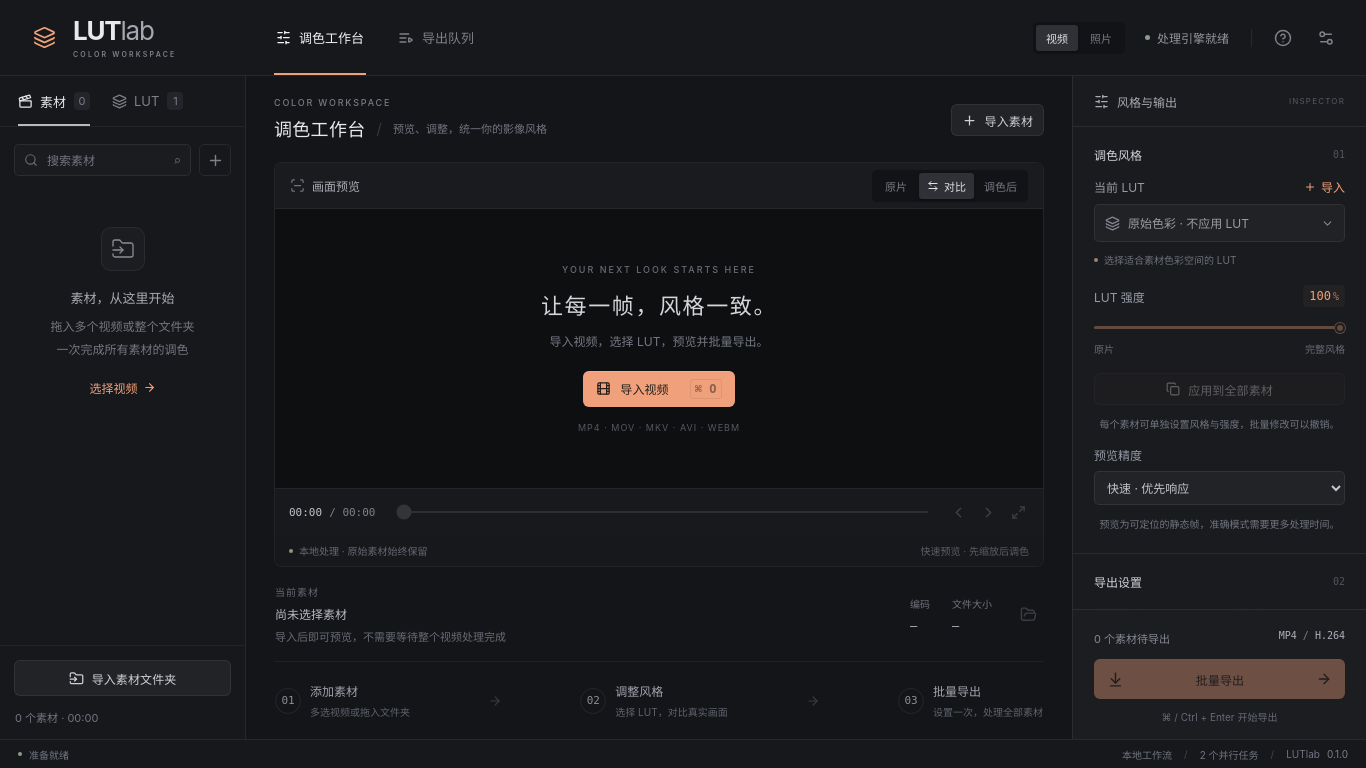
Test: workspace integration › opens a keyboard accessible settings dialog and displays engine information
The image size is (1366, 768).
Check: the button "处理引擎就绪" is shown, box [1139,28,1235,47]
Click the button named "应用设置": (1326, 38) [1311,23,1340,52]
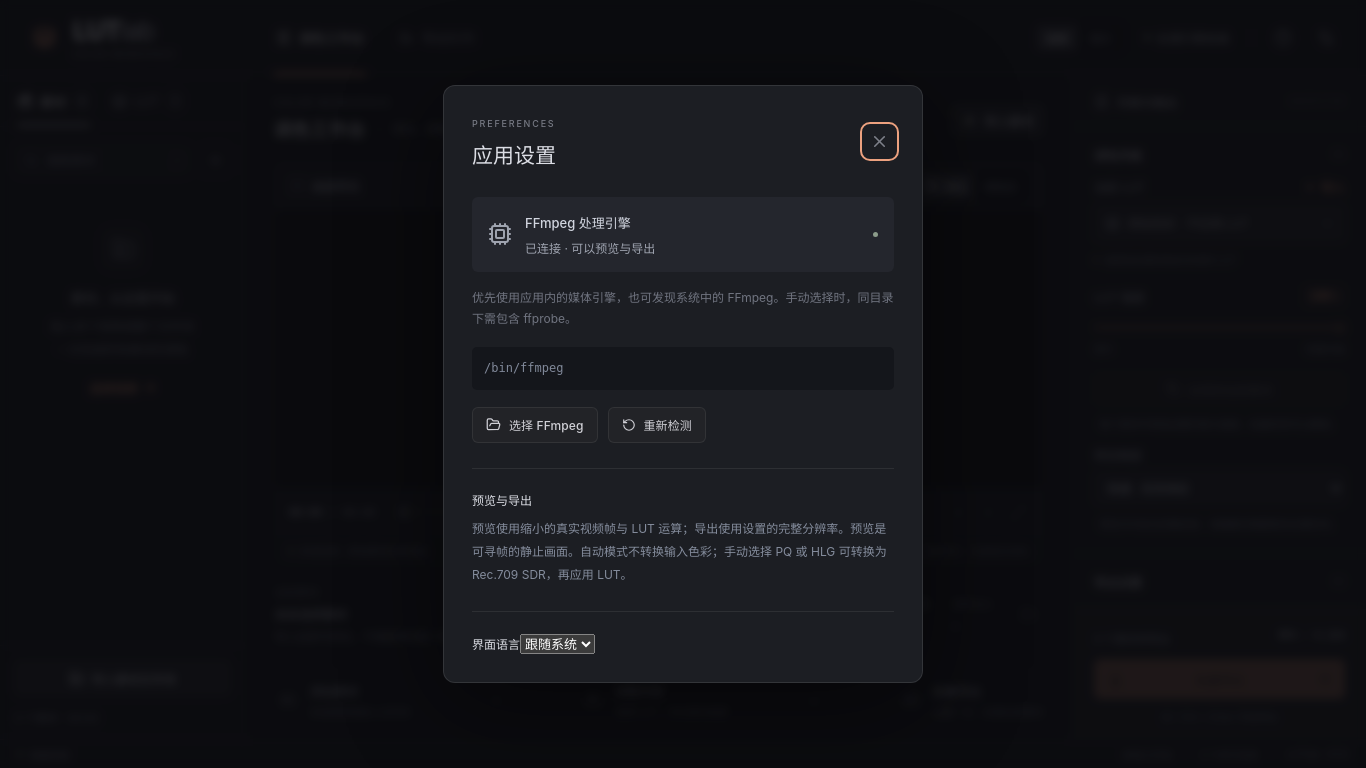
Check: the dialog "应用设置" is shown, box [443,85,923,683]
Check: the text "/bin/ffmpeg" is shown, box [472,347,894,390]
Click the button named "关闭窗口": (880, 141) [865,127,894,156]
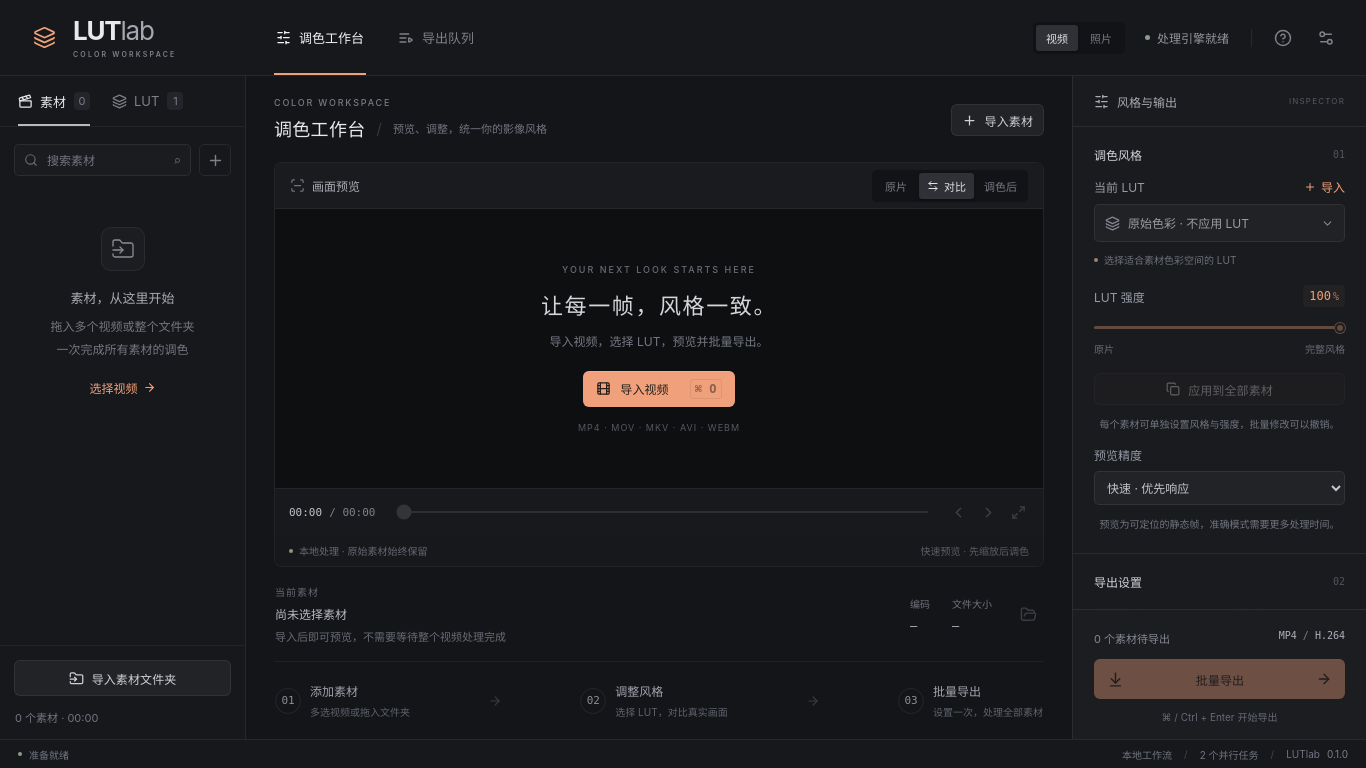
Check: the dialog is gone
